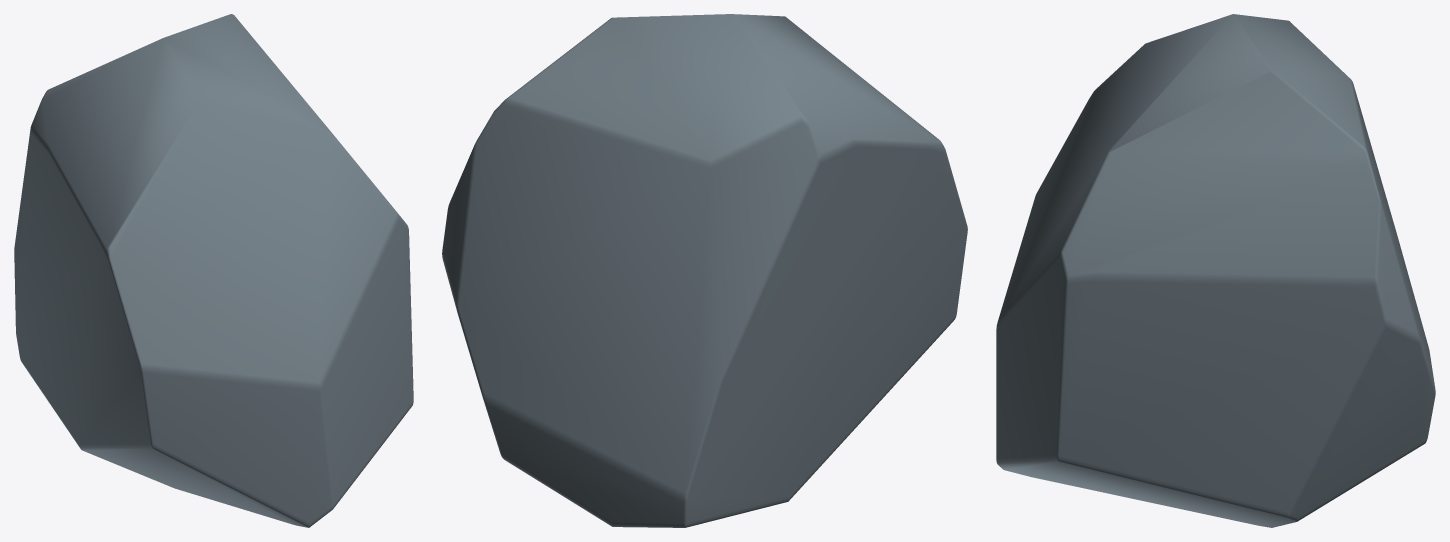
The model's file is Rock3-col.glb.
The picture shows the model from 3 angles, left to right: view 1: azimuth 30°, elevation 25°; view 2: azimuth 150°, elevation 25°; view 3: azimuth 270°, elevation 25°; orthographic projection. The views are drawn at different scales.
Parts seen in each view (by area): view 1: Rock3-col; view 2: Rock3-col; view 3: Rock3-col.
Boxes of the visible parts, <box> form: Rock3-col: <box>14,14,413,527</box>; Rock3-col: <box>442,14,967,527</box>; Rock3-col: <box>996,14,1435,527</box>.
Size of the model in its own units: 1.12 by 1.55 by 1.32.
